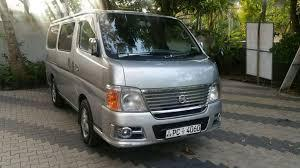Van: (43, 11, 222, 144)
